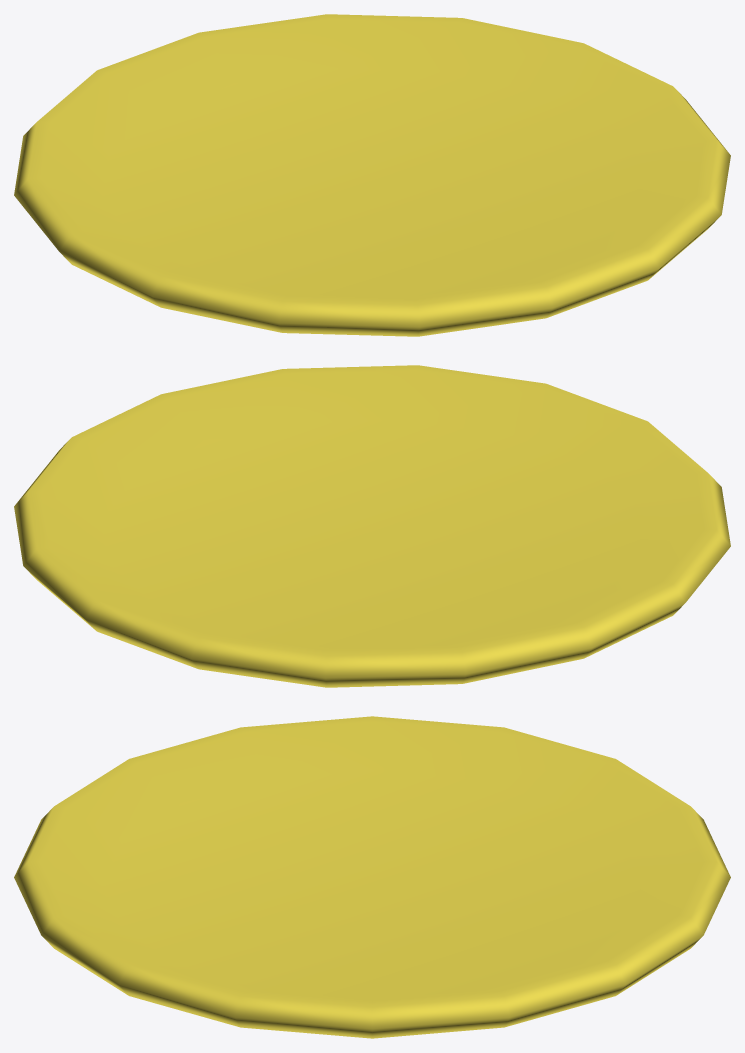
The model's file is Assiette.fbx.
3 renders of one model, top to bottom at view 1: azimuth 30°, elevation 25°; view 2: azimuth 150°, elevation 25°; view 3: azimuth 270°, elevation 25°, orthographic.
Visible parts, largest first — view 1: Assiette; view 2: Assiette; view 3: Assiette.
Part boxes in pixels (left/top/right/bottom): Assiette: left=14, top=14, right=730, bottom=336; Assiette: left=14, top=365, right=730, bottom=687; Assiette: left=14, top=716, right=730, bottom=1038.
Bounding box in the file's own units: 15.99 × 1.19 × 15.99.
